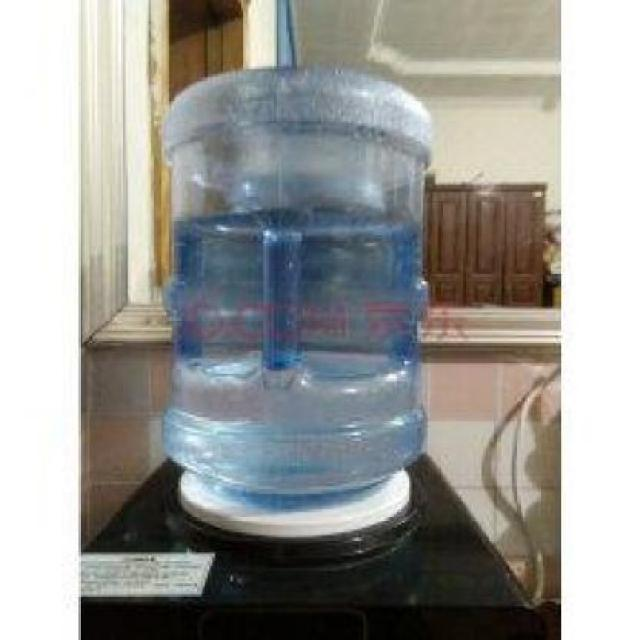coolerbottle: (158, 62, 438, 510)
